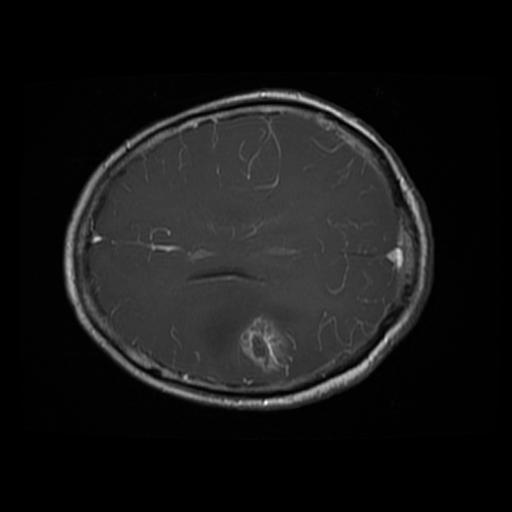glioma: (237, 319, 290, 374)
